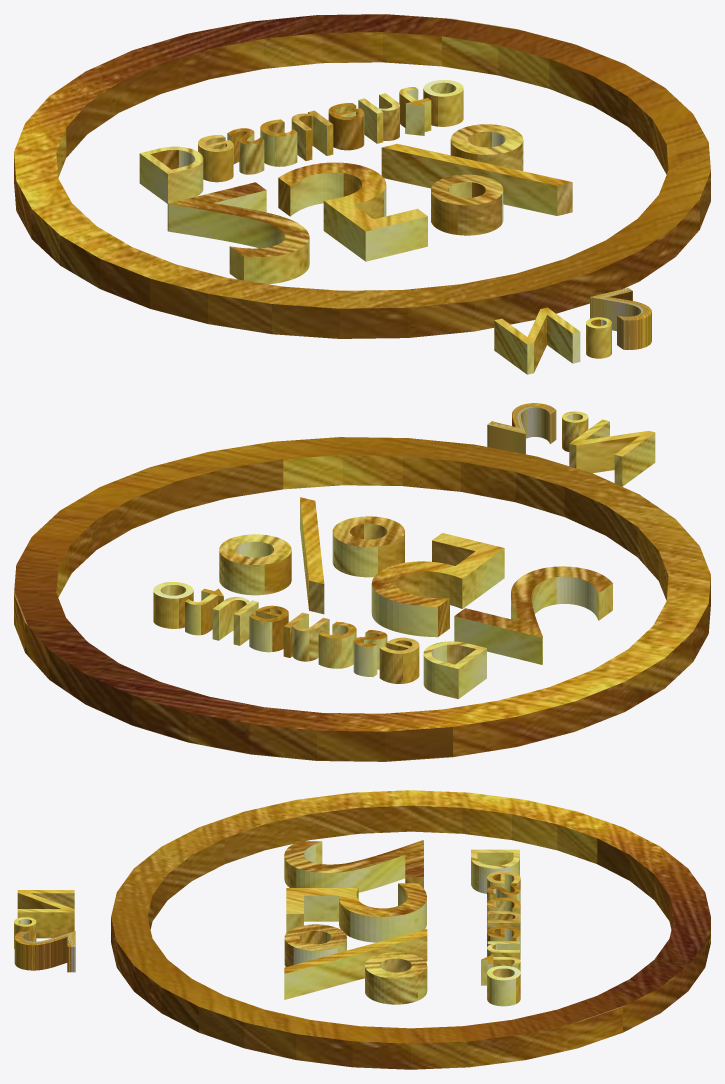
File: circulo25_2.glb
3 views of the same model, one above another, from view 1: azimuth 30°, elevation 25°; view 2: azimuth 150°, elevation 25°; view 3: azimuth 270°, elevation 25° (orthographic). The views are drawn at different scales.
Visible parts, largest first — view 1: Text; view 2: Text; view 3: Text.
Part boxes in pixels (left/top/right/bottom): Text: left=14, top=14, right=710, bottom=374; Text: left=14, top=403, right=710, bottom=761; Text: left=14, top=790, right=710, bottom=1069.
Bounding box in the file's own units: 0.5021 × 0.0246 × 0.5834.
1 material, 1 textured.
